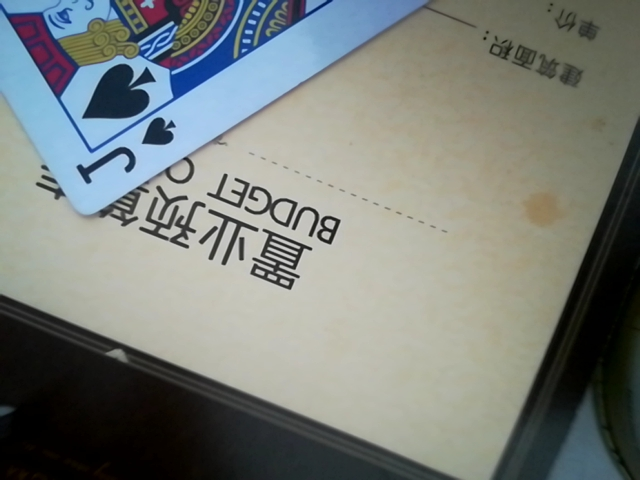ht j: (2, 1, 462, 213)
